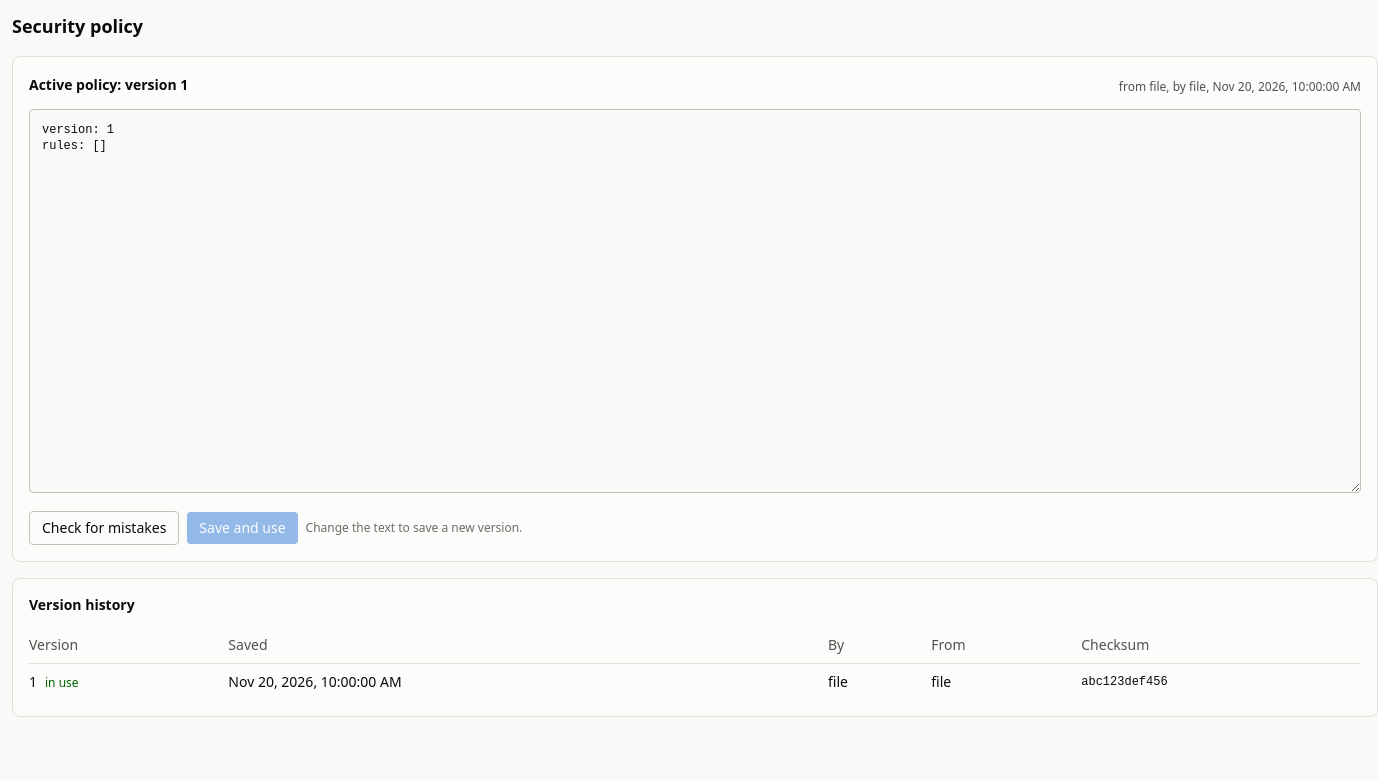
Test: policy › saves only after the admin confirms
Type "# note" into the text box named "Policy (YAML)".
click(695, 301); type("# note")  # box top-left (29, 109), bottom-right (1361, 493)
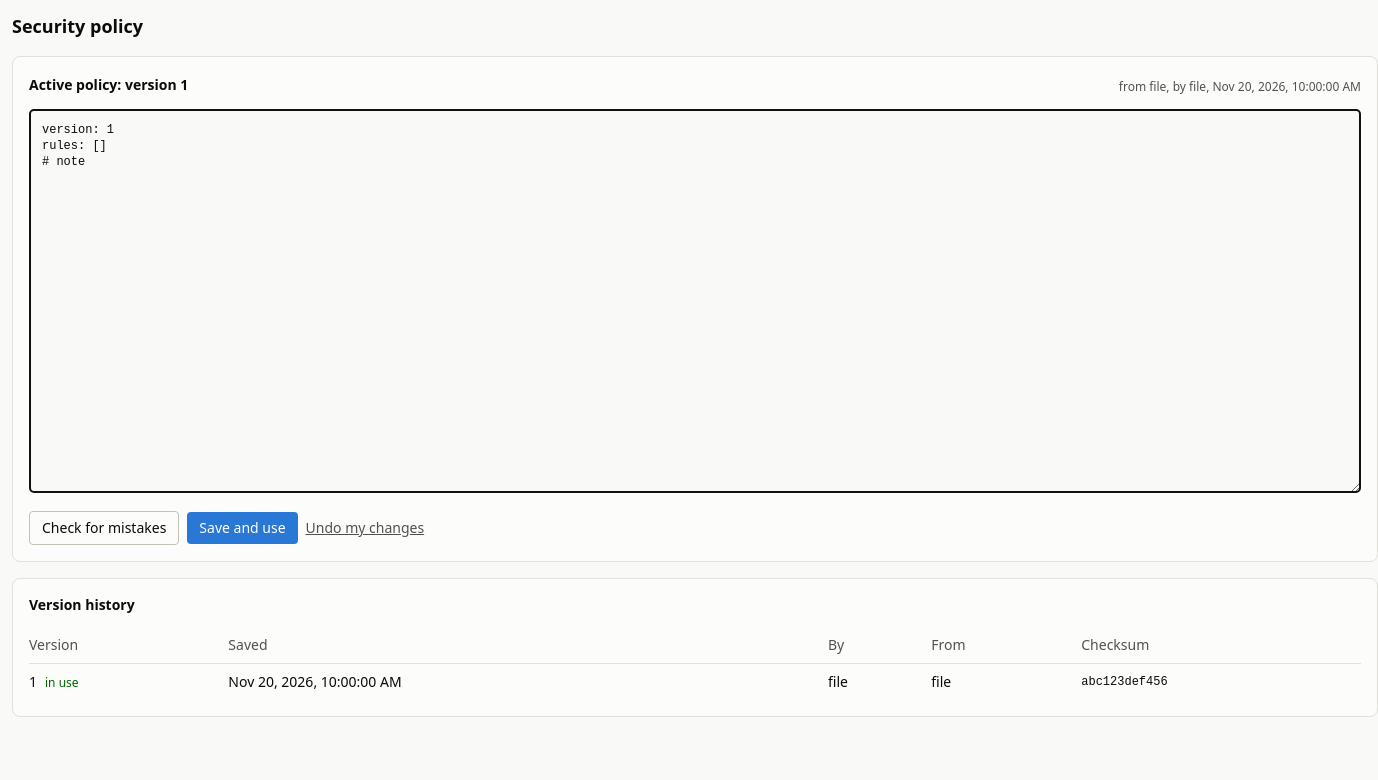
Click the button "Save and use".
click(242, 528)  # box top-left (187, 512), bottom-right (298, 544)
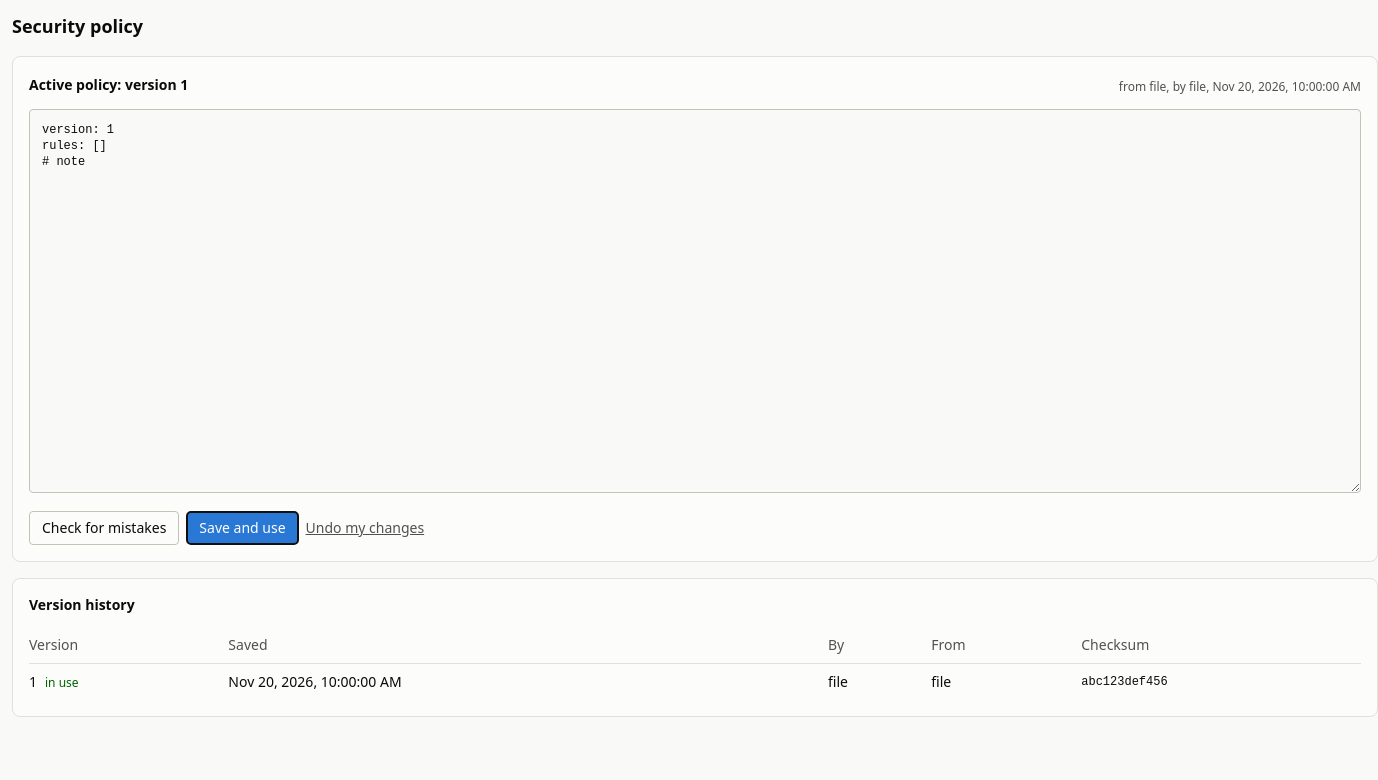
Click the button "Save and use".
click(242, 528)  # box top-left (187, 512), bottom-right (298, 544)
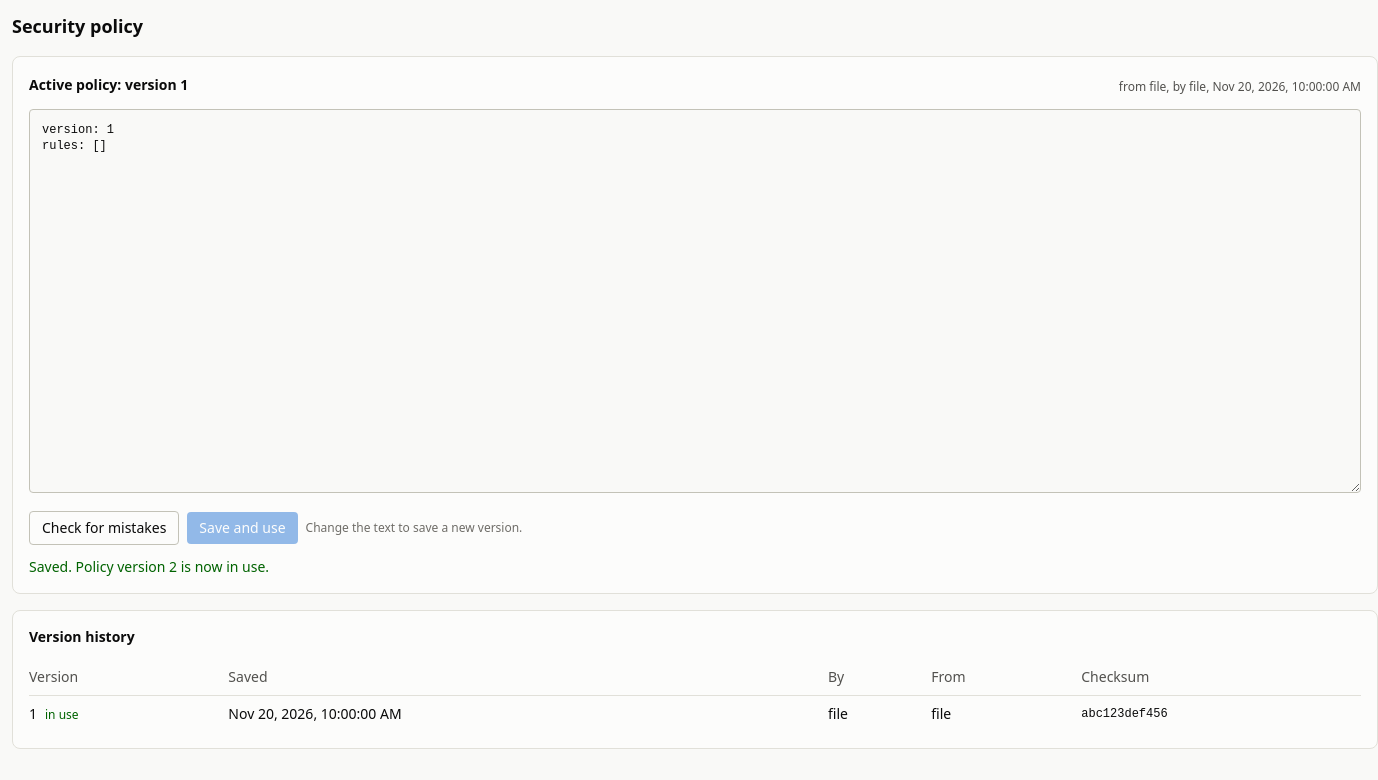
Now the text "Saved. Policy version 2 is now in use." is shown, box top-left (29, 557), bottom-right (269, 576)
